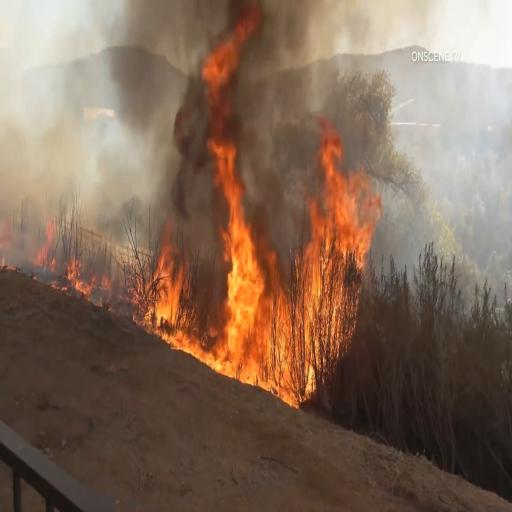fire: (135, 224, 297, 405), (204, 0, 259, 380), (32, 222, 91, 297), (265, 2, 321, 74)
smoke: (115, 6, 200, 209), (249, 72, 298, 218)
